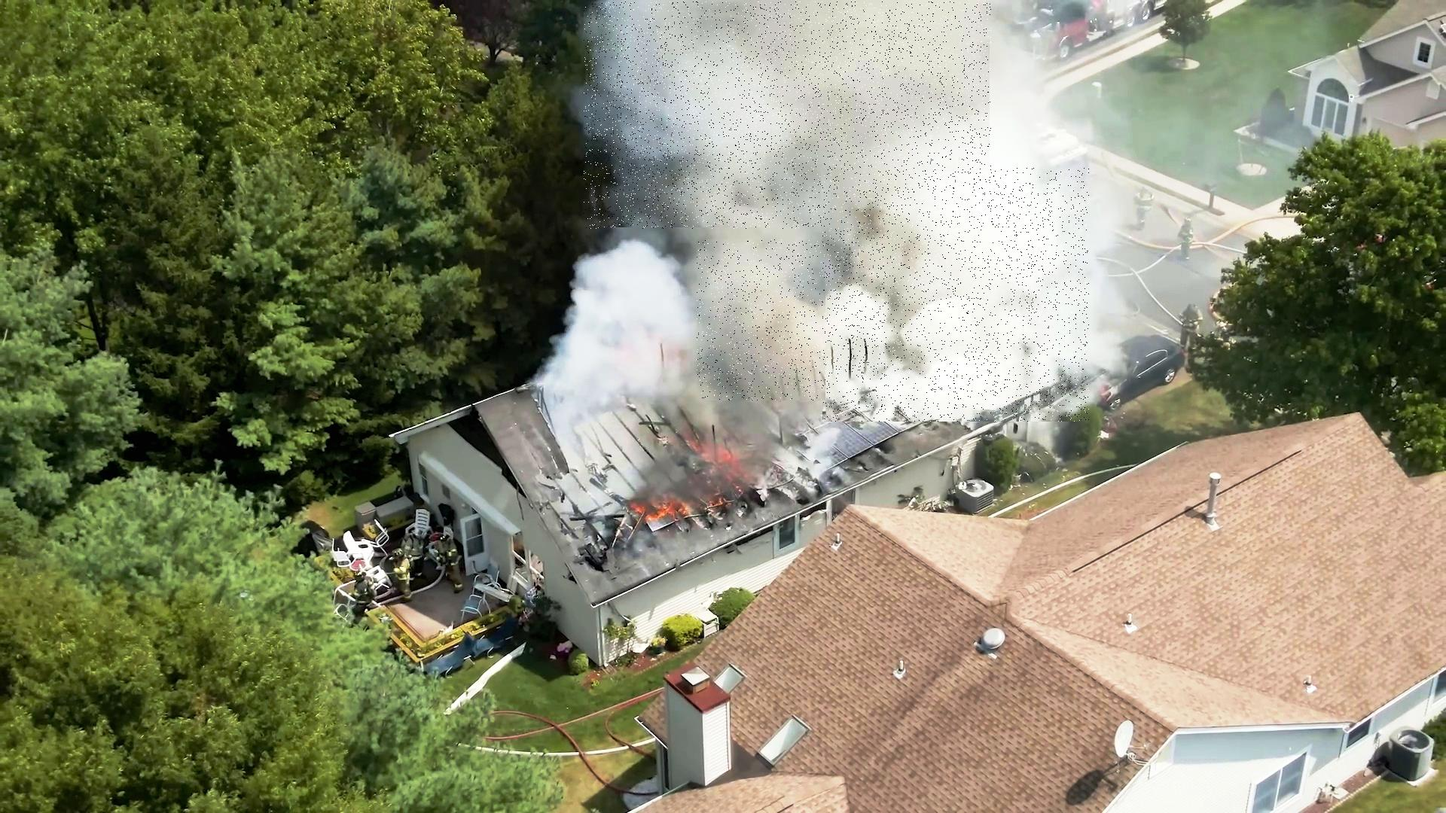smoke: (584, 2, 992, 229), (823, 168, 1090, 422), (697, 240, 828, 401)
